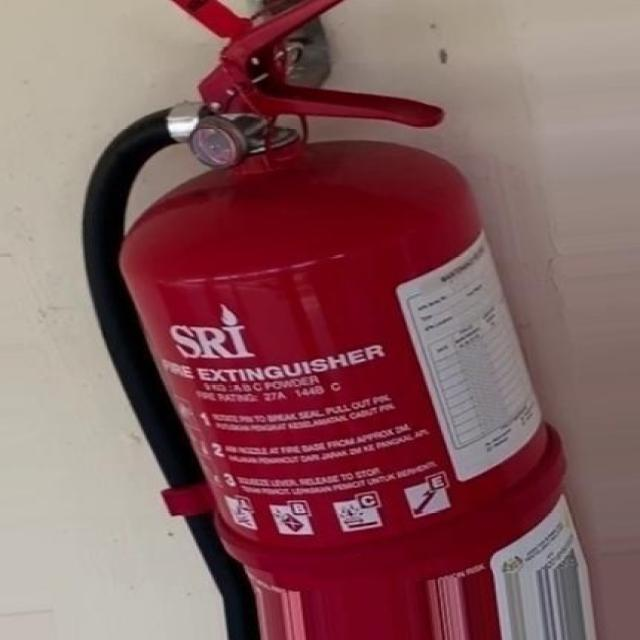fire_extinguisher: (66, 1, 619, 639)
